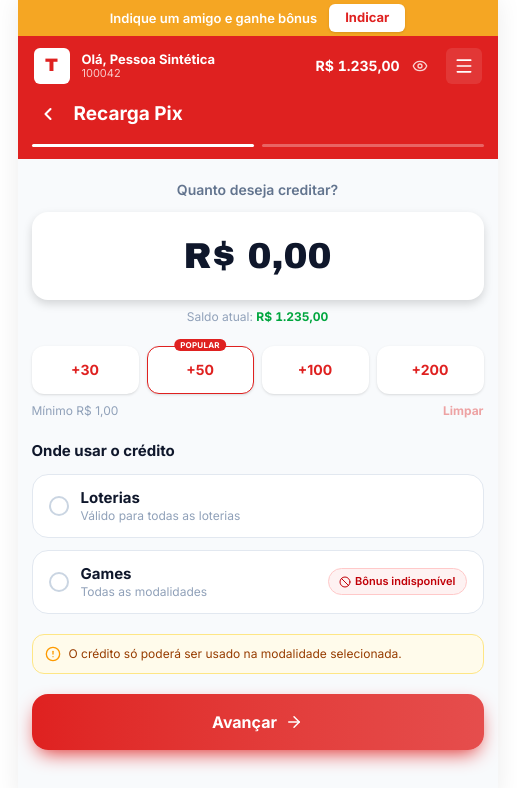
it: RechargePage: valor e destino › valores rápidos somam e Limpar zera
This screenshot has width=517, height=788.
Click the button with aria-label "Adicionar R$ 50,00" at {"x": 200, "y": 370}, box x1=146 y1=346 x2=254 y2=394
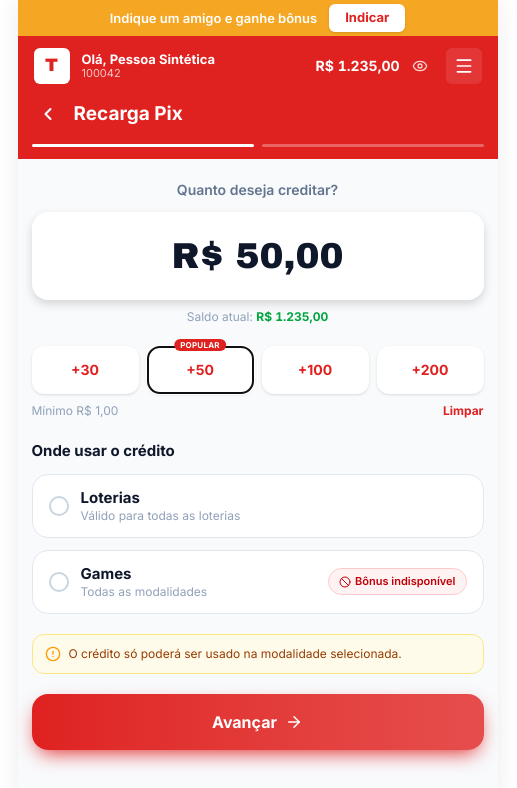
Click the button named "Adicionar R$ 30,00" at {"x": 85, "y": 370}, box x1=32 y1=346 x2=138 y2=394
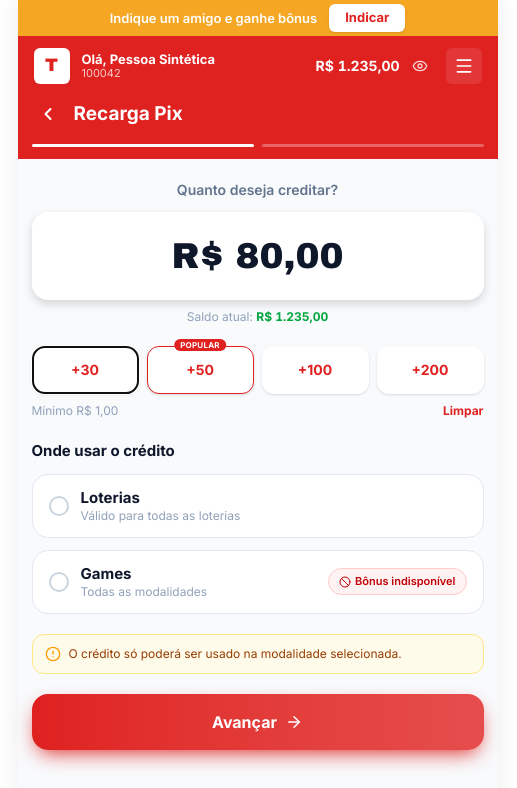
Expected: the field labelled "Quanto deseja creditar?" holds "R$ 80,00", x1=48 y1=236 x2=468 y2=276
Click the button "Limpar" at {"x": 463, "y": 410}, box x1=443 y1=402 x2=484 y2=420
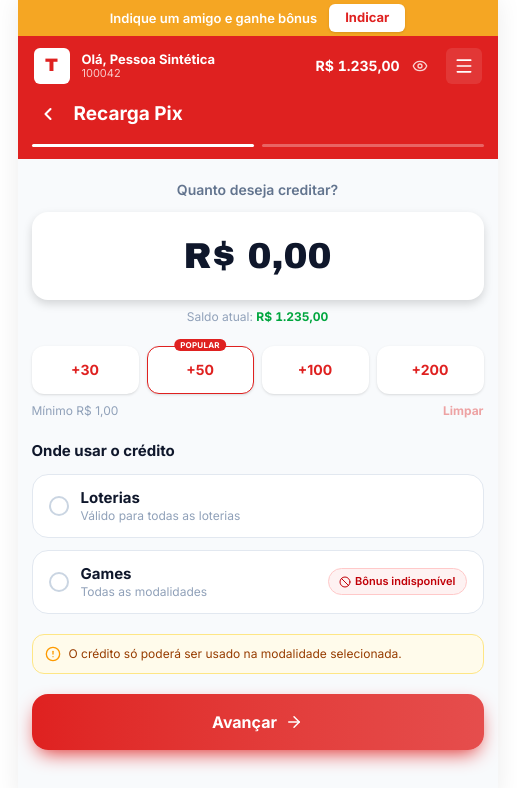
Expected: the field labelled "Quanto deseja creditar?" holds "R$ 0,00", x1=48 y1=236 x2=468 y2=276
Expected: the button "Limpar" is disabled, x1=443 y1=402 x2=484 y2=420
